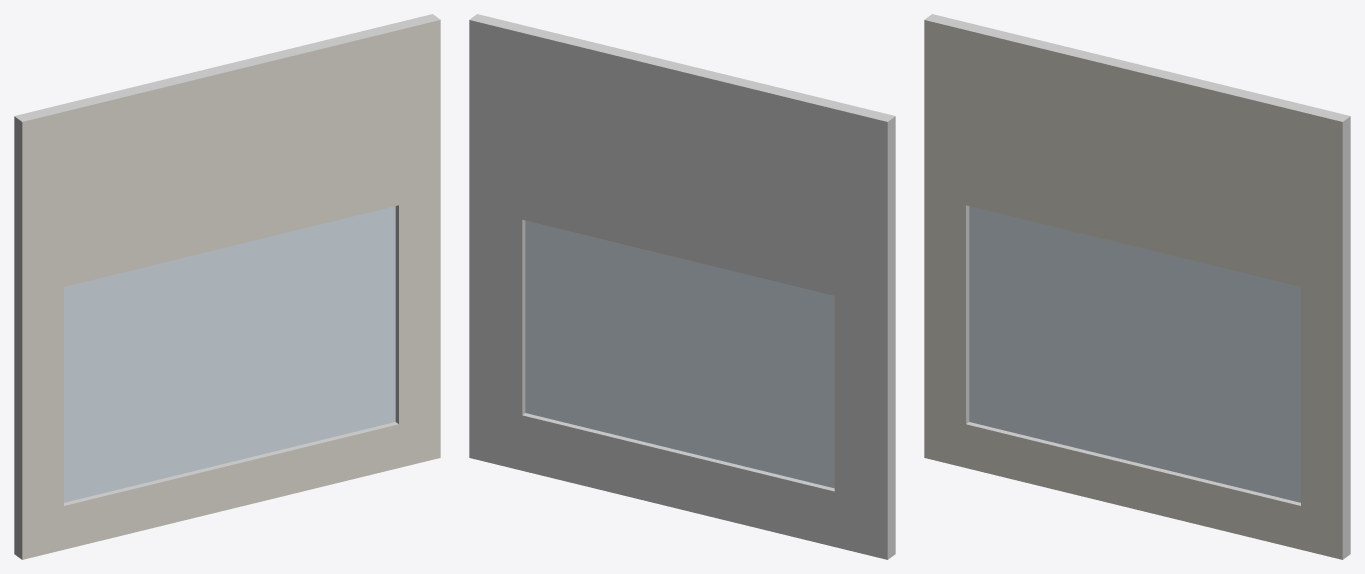
The model's file is ShopGlass_CapBoth.fbx.
3 renders of one model, left to right at view 1: azimuth 30°, elevation 25°; view 2: azimuth 150°, elevation 25°; view 3: azimuth 330°, elevation 25°, orthographic.
Parts seen in each view (by area): view 1: SM_ShopGlass_CapBoth; view 2: SM_ShopGlass_CapBoth; view 3: SM_ShopGlass_CapBoth.
Boxes of the visible parts, x1,y1,x2,y2 form: SM_ShopGlass_CapBoth: (14,14,440,559); SM_ShopGlass_CapBoth: (469,14,895,559); SM_ShopGlass_CapBoth: (924,14,1350,559).
Bounding box in the file's own units: 3 × 3 × 0.1.
